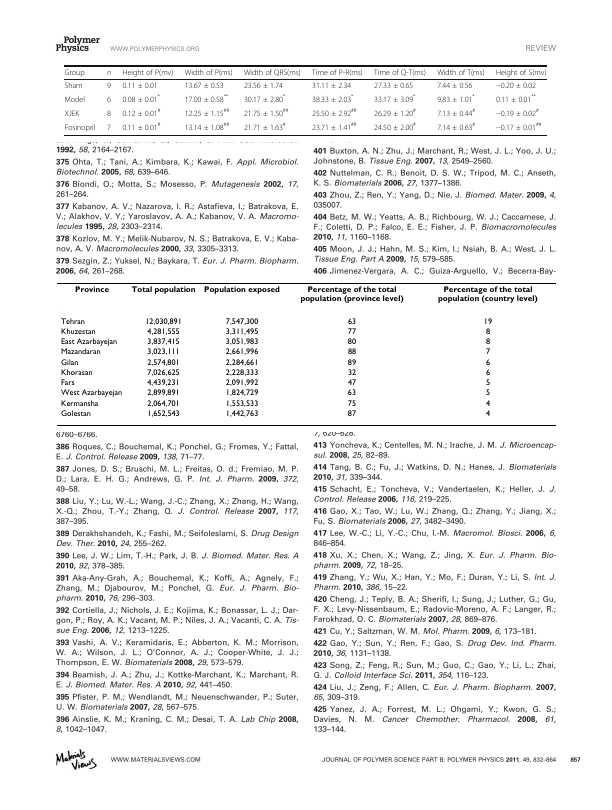borderless: (56, 281, 556, 425), (64, 64, 547, 135)
cell: (299, 286, 404, 304), (437, 286, 538, 304), (203, 286, 280, 295), (130, 286, 196, 295), (59, 389, 123, 398), (59, 338, 118, 347), (243, 68, 302, 77), (495, 121, 542, 132), (184, 107, 230, 118), (243, 107, 289, 118), (311, 107, 357, 118), (184, 121, 230, 132), (311, 121, 357, 132), (184, 93, 229, 104), (495, 107, 540, 118), (373, 68, 427, 77), (373, 107, 417, 118), (243, 121, 287, 132), (373, 121, 417, 132), (121, 68, 174, 77), (311, 68, 364, 77), (243, 93, 286, 104), (311, 93, 354, 104), (373, 93, 416, 104), (495, 68, 547, 77), (495, 93, 537, 104), (436, 68, 486, 77), (184, 68, 233, 77), (121, 93, 161, 104), (436, 93, 476, 104), (121, 107, 161, 118), (436, 107, 476, 118), (121, 121, 161, 132), (436, 121, 476, 132), (59, 399, 99, 409), (144, 317, 182, 327), (59, 348, 101, 357), (495, 81, 537, 90), (59, 327, 96, 337), (184, 81, 225, 90), (243, 81, 284, 90), (311, 81, 352, 90), (373, 81, 414, 90), (224, 317, 259, 327), (224, 327, 259, 337), (224, 358, 259, 368), (224, 368, 259, 378), (224, 399, 259, 409), (224, 409, 259, 419), (121, 81, 159, 90), (146, 327, 180, 337), (146, 358, 180, 368), (59, 368, 93, 378), (146, 368, 180, 378), (146, 399, 180, 409), (146, 409, 180, 419), (436, 81, 473, 90), (59, 409, 91, 419), (74, 286, 109, 295), (224, 338, 259, 347), (224, 348, 259, 357), (224, 379, 259, 388), (224, 389, 259, 398), (146, 338, 180, 347), (146, 348, 180, 357), (146, 379, 180, 388), (146, 389, 180, 398), (64, 123, 96, 132), (59, 317, 85, 327), (59, 358, 79, 368), (64, 95, 86, 104), (64, 68, 85, 77), (64, 81, 83, 90), (59, 379, 75, 388), (64, 109, 80, 118), (346, 317, 357, 327), (482, 317, 493, 327), (346, 327, 357, 337), (346, 358, 357, 368), (346, 368, 357, 378), (346, 399, 357, 409), (346, 409, 357, 419), (346, 338, 357, 347), (346, 348, 357, 357), (346, 379, 357, 388), (346, 389, 357, 398), (484, 368, 491, 378), (484, 409, 491, 419), (484, 338, 491, 347), (484, 348, 491, 357), (484, 379, 491, 388), (484, 389, 491, 398), (484, 327, 490, 337), (484, 358, 490, 368), (484, 399, 490, 409), (106, 81, 112, 90), (106, 95, 112, 104), (106, 109, 112, 118), (106, 123, 112, 132), (106, 70, 112, 76)
